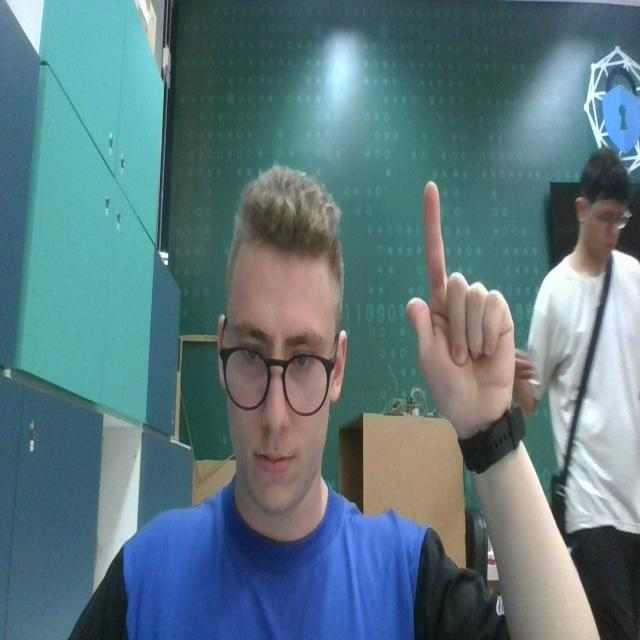G: (405, 178, 516, 423)
